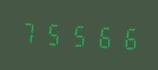five: (42, 18, 65, 49), (66, 19, 89, 50)
seven: (18, 16, 41, 48)
six: (114, 21, 137, 53), (90, 20, 113, 51)
